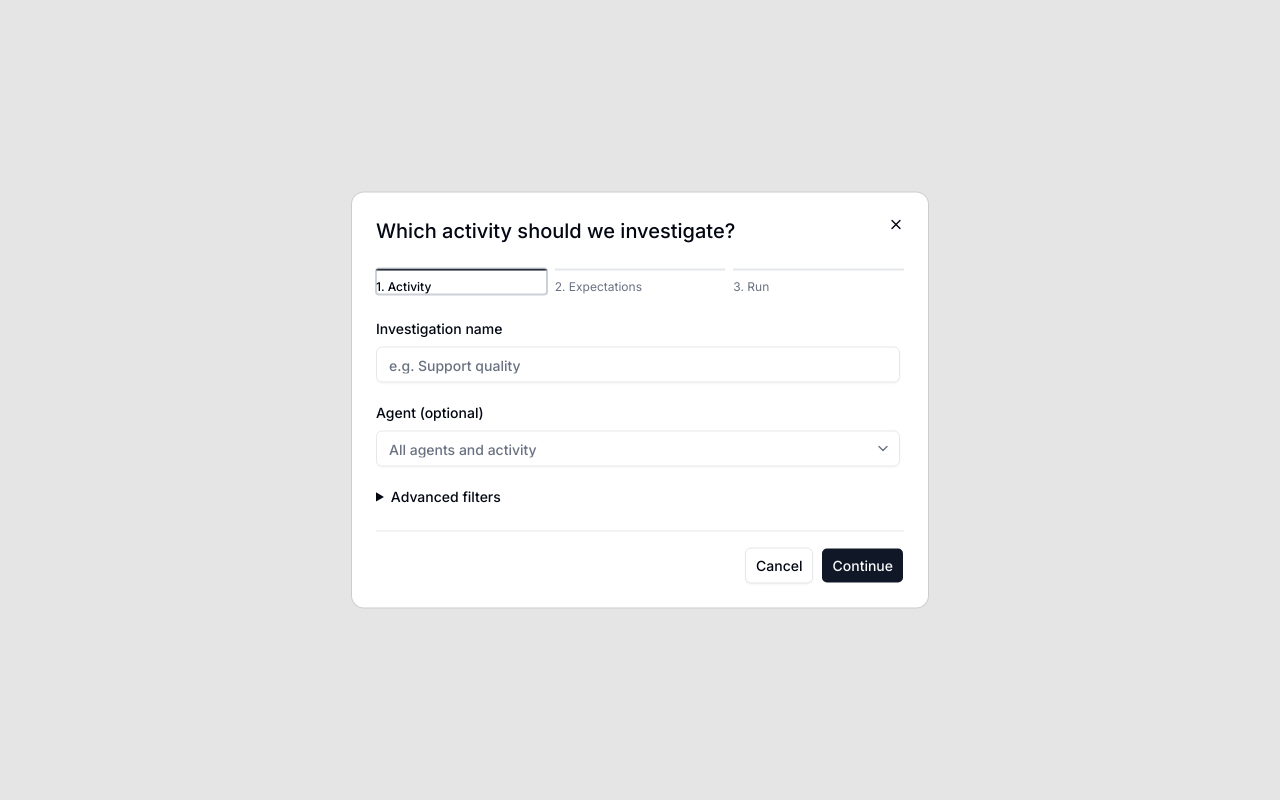
Test: Lens setup › rejects invalid metadata before reviewing the selection
Click the heading "Advanced filters": [446, 496] box [391,488,501,504]
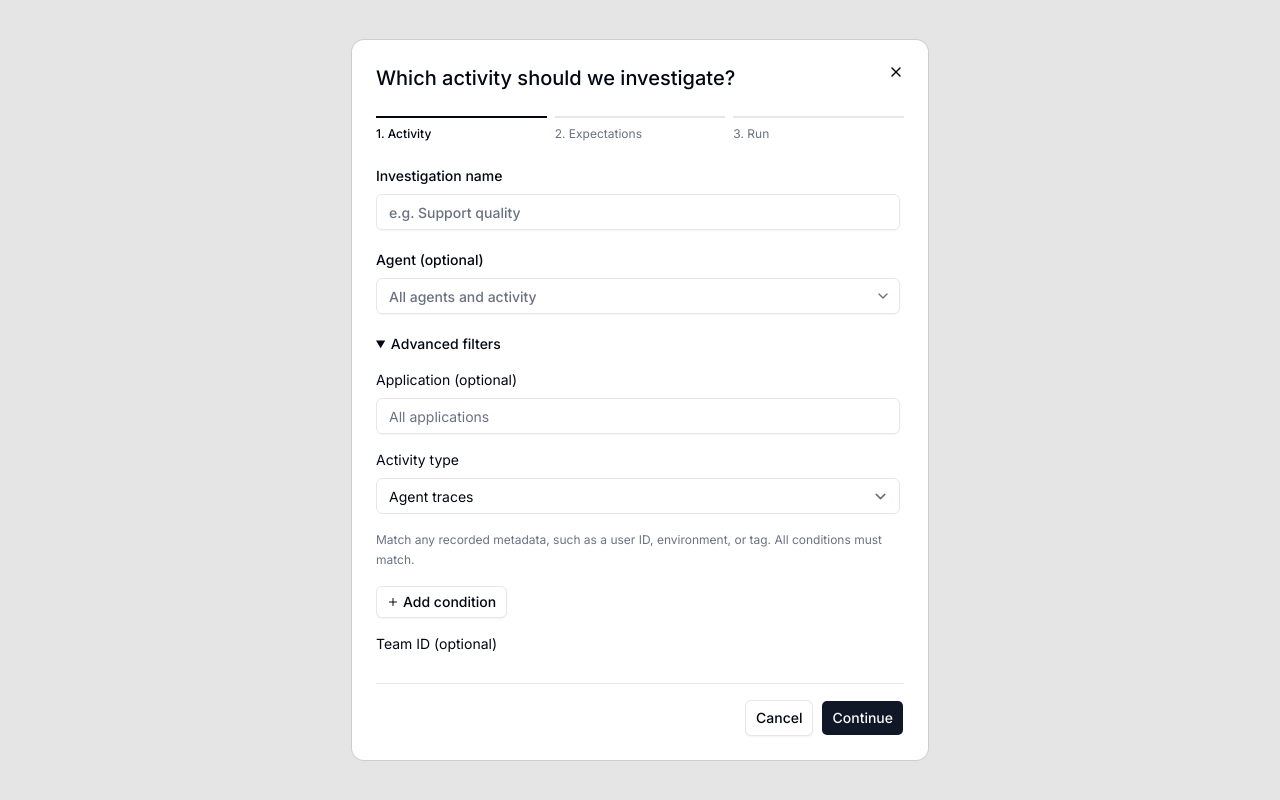
Click the button "Add condition": [442, 602] box [376,586,507,618]
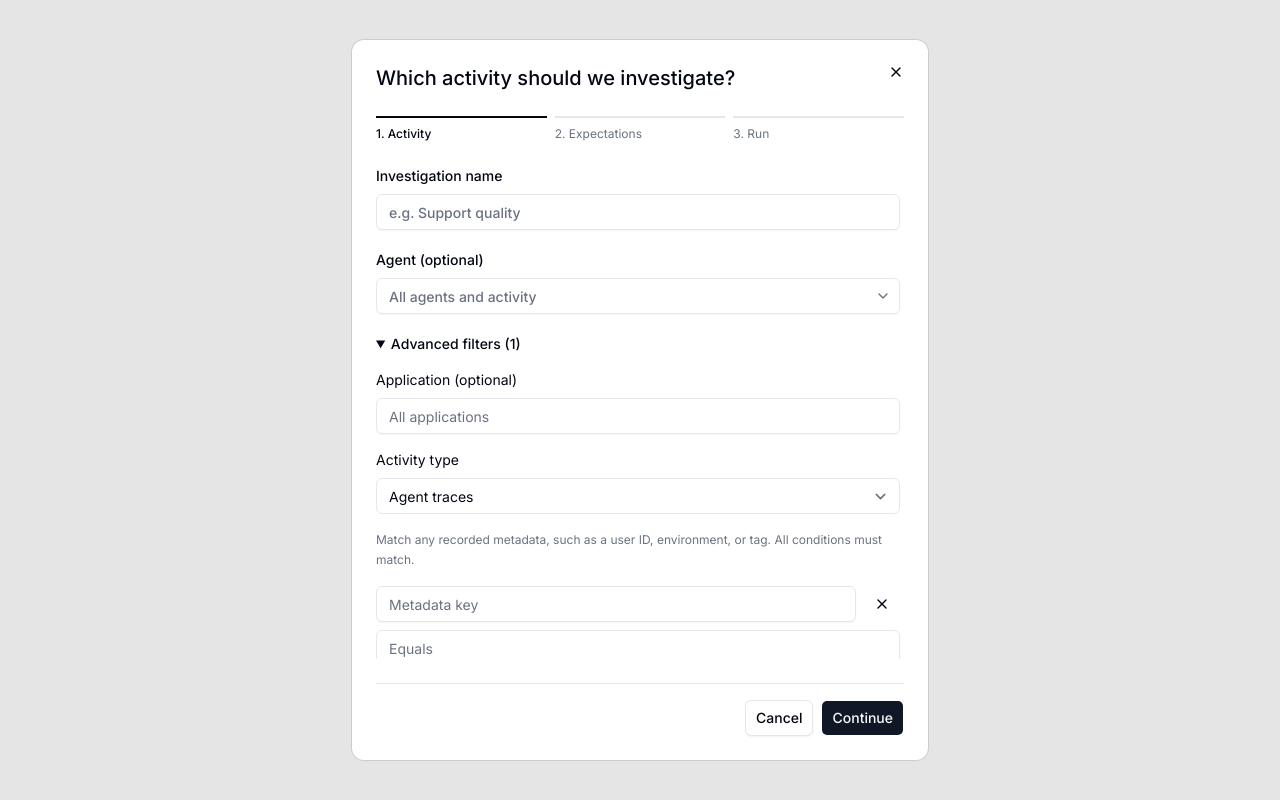
In the field named "Metadata key 1": [616, 604] box [376,586,856,622], type "swarm"
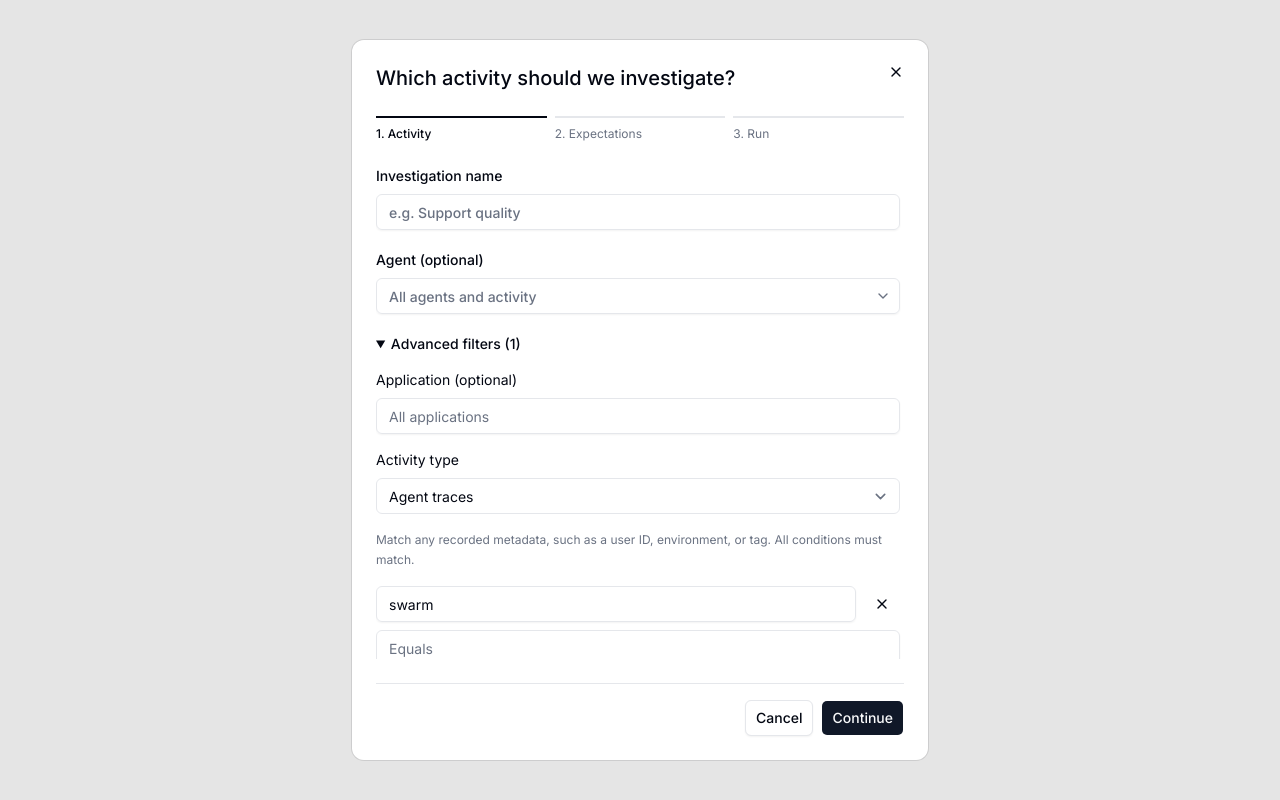
Click the button "Continue": [863, 718] box [822,700,904,736]
(page scrolled)
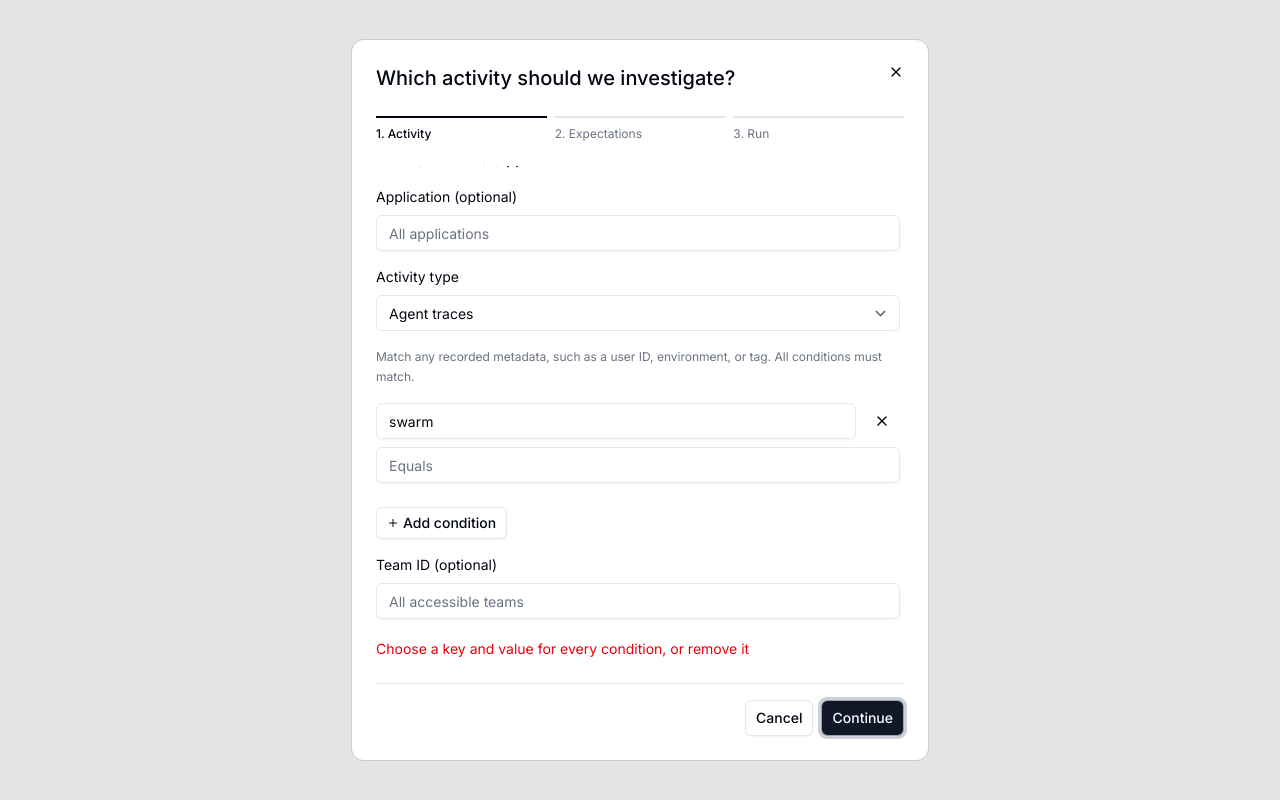
Result: the message reads "Choose a key and value for every condition, or remove it" at [376,640,749,657]
